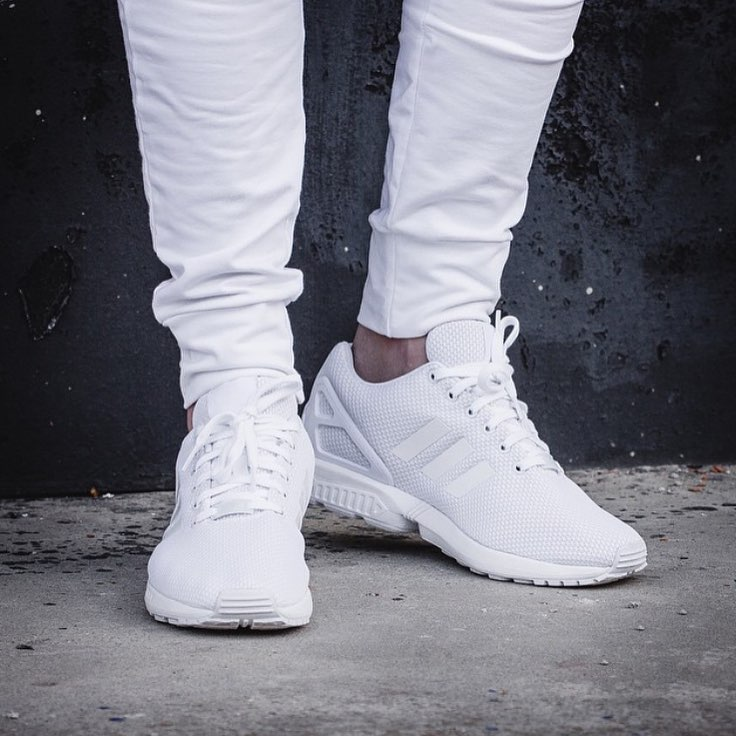sneaker: (280, 296, 662, 609), (113, 330, 352, 661)
